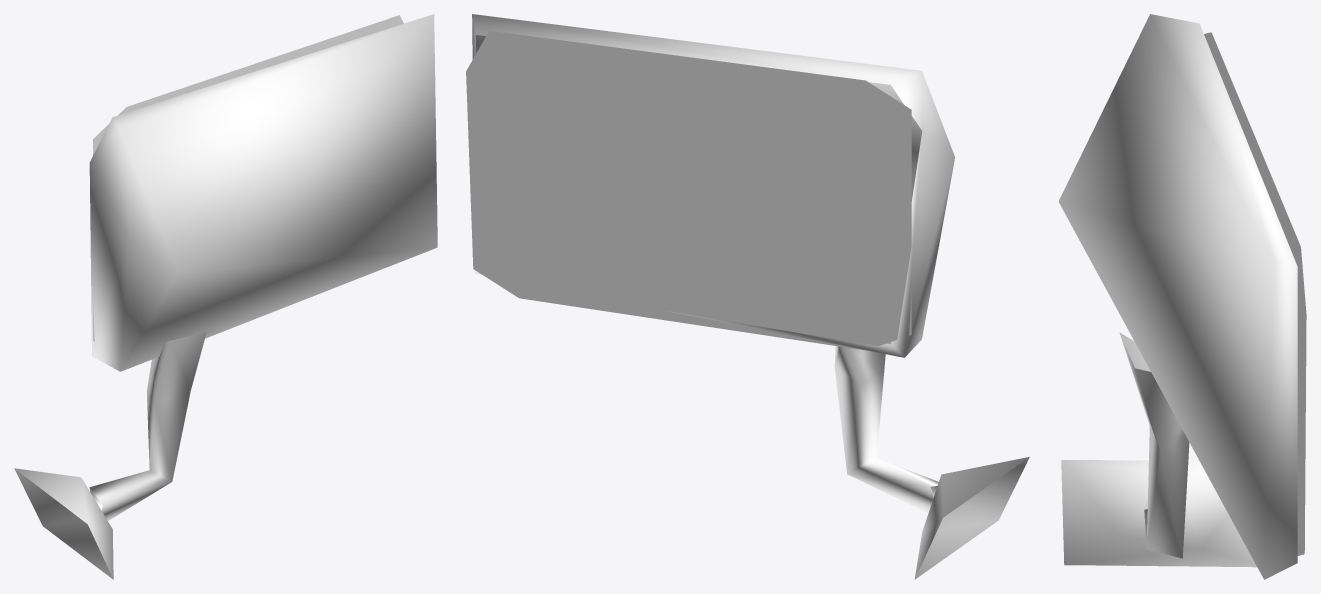
The picture shows the model from 3 angles, left to right: view 1: azimuth 30°, elevation 25°; view 2: azimuth 150°, elevation 25°; view 3: azimuth 270°, elevation 25°; orthographic projection. The views are drawn at different scales.
Bounding box in the file's own units: 0.1482 × 0.1398 × 0.0544.
Materials: 1 (1 with a texture image).
